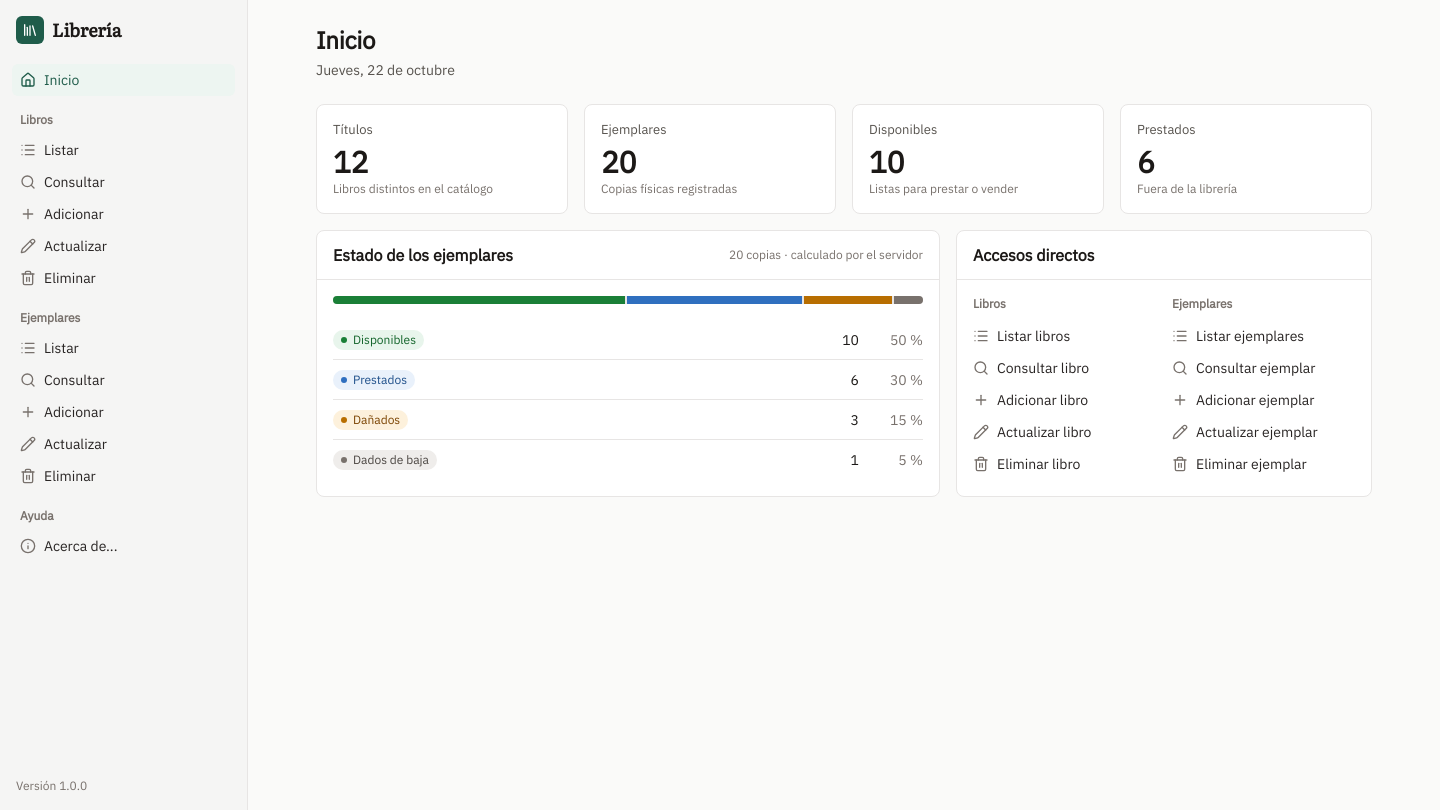
Test: Aplicación › cada opción abre una pantalla dedicada a un único caso de uso y marca la opción activa
Step 1. Click the 2nd link "Adicionar" → (62, 412), box [20,403,104,421]
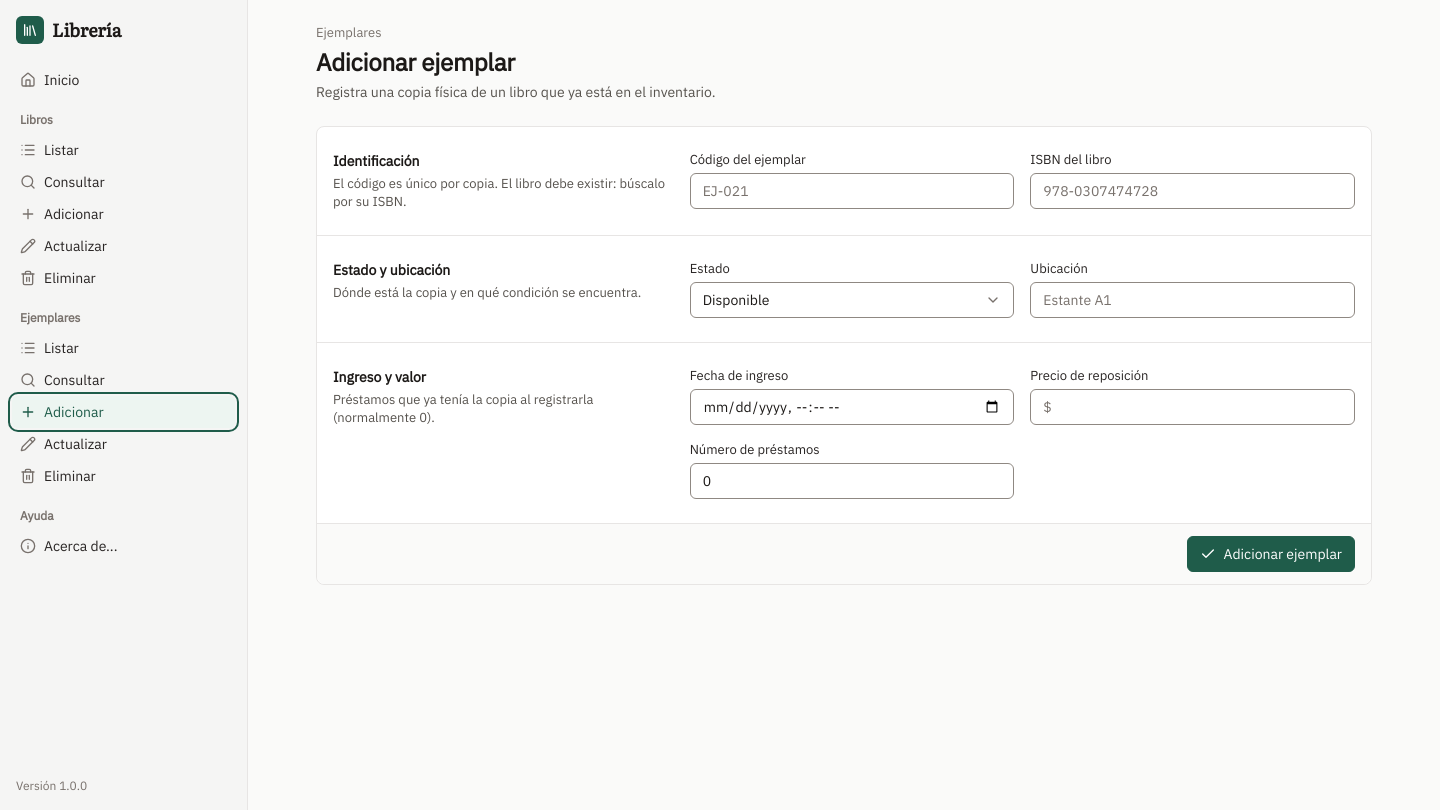
Result: the heading "Adicionar ejemplar" is shown at [316,46,515,78]
